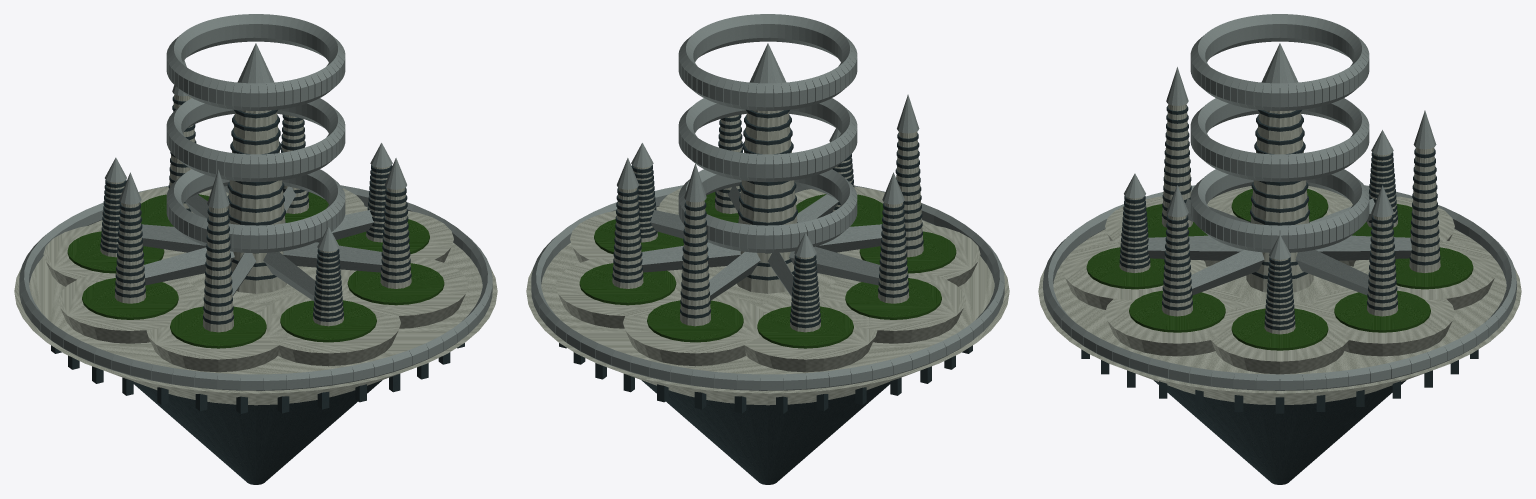
The model's file is levitation_citadel_01.fbx.
3 views of the same model, side by side, from view 1: azimuth 30°, elevation 25°; view 2: azimuth 150°, elevation 25°; view 3: azimuth 270°, elevation 25° (orthographic).
Visible parts, largest first — view 1: levitation_citadel_01_LOD0; view 2: levitation_citadel_01_LOD0; view 3: levitation_citadel_01_LOD0.
Boxes of the visible parts, bbox=[...] form: levitation_citadel_01_LOD0: bbox=[14, 14, 497, 484]; levitation_citadel_01_LOD0: bbox=[526, 14, 1009, 484]; levitation_citadel_01_LOD0: bbox=[1038, 14, 1521, 484].
Size of what is drawn, in the model's own units: 1 by 1 by 1.
